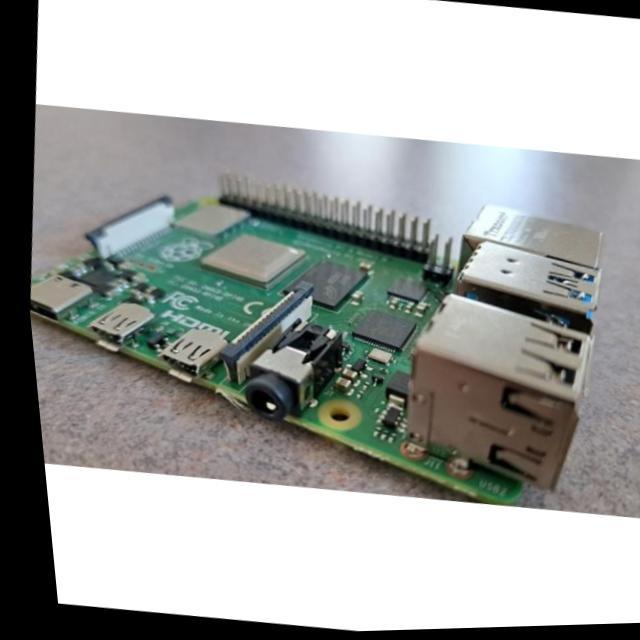Raspberry-Pi-4-B: (31, 177, 602, 505)
